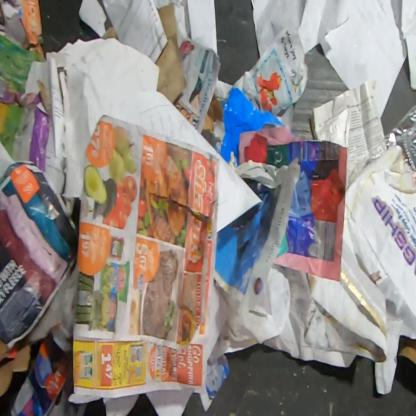cardboard: (220, 88, 286, 166), (0, 74, 51, 174), (0, 336, 33, 410), (202, 92, 223, 132), (396, 334, 415, 367)
rigid_plastic: (347, 102, 416, 190)
